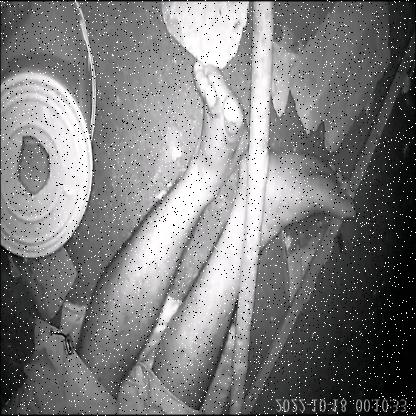leg: (69, 22, 252, 343), (237, 131, 360, 358)
